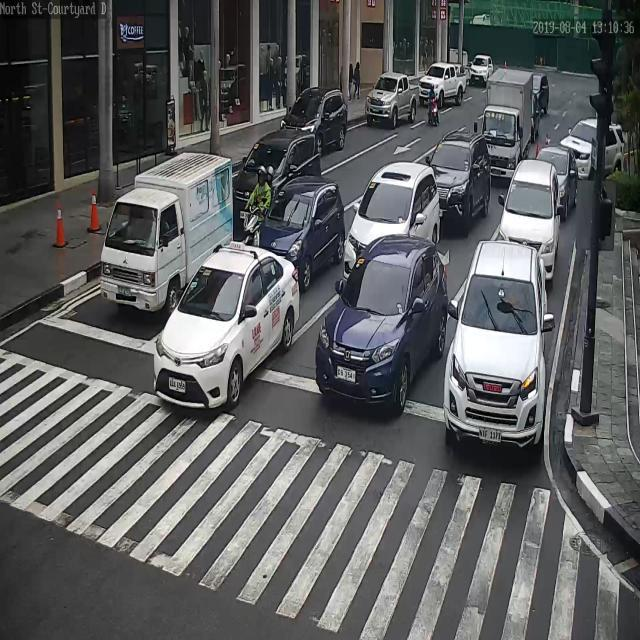car: (316, 227, 447, 411), (156, 241, 300, 406), (456, 217, 548, 406), (250, 179, 345, 289), (234, 129, 324, 223), (503, 156, 559, 280), (424, 132, 491, 233), (282, 87, 346, 152), (560, 117, 626, 178), (364, 74, 418, 130), (536, 146, 577, 215), (419, 62, 467, 105), (470, 55, 495, 85), (534, 72, 550, 117)
jeepney: (246, 161, 278, 243), (427, 82, 440, 130)
motorcycle: (482, 67, 534, 171)
van: (104, 150, 237, 312), (346, 162, 439, 279)
